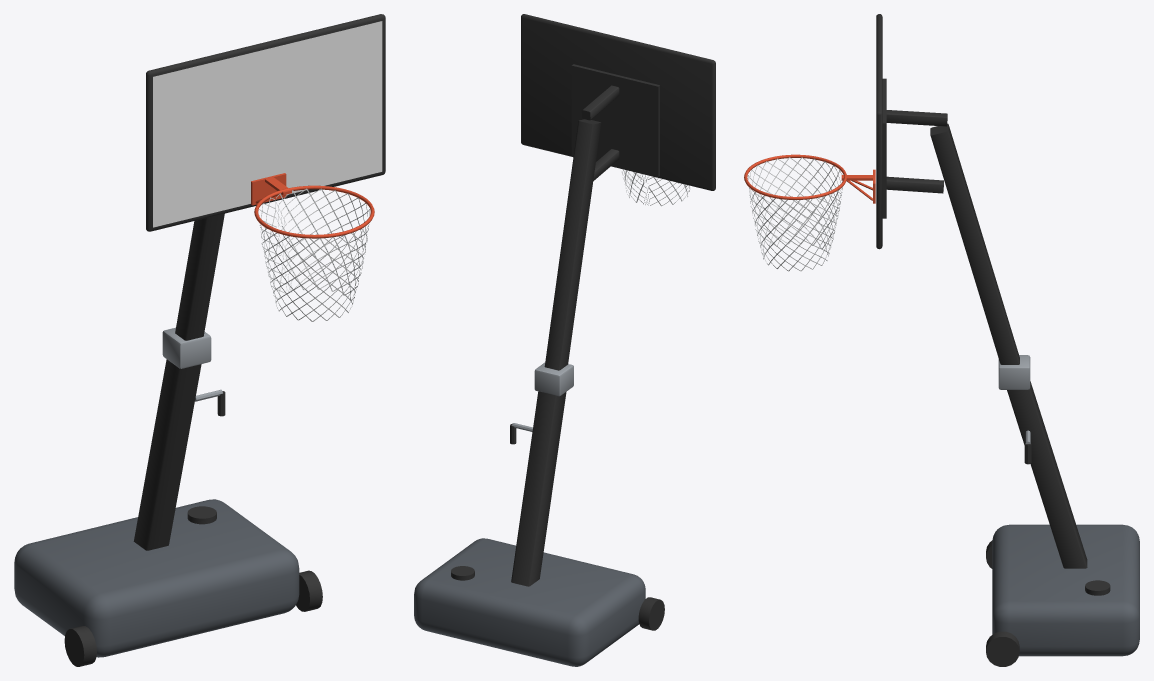
File: vinish-youth-hoop.glb
3 views of the same model, side by side, from view 1: azimuth 30°, elevation 25°; view 2: azimuth 150°, elevation 25°; view 3: azimuth 270°, elevation 25° (orthographic). The views are drawn at different scales.
Visible parts, largest first — view 1: Youth_Hoop; view 2: Youth_Hoop; view 3: Youth_Hoop.
Boxes of the visible parts, box(x1,y1,x2,y2) form: Youth_Hoop: box(14, 14, 385, 666); Youth_Hoop: box(414, 14, 715, 666); Youth_Hoop: box(744, 14, 1139, 666).
Size of the model in its own units: 1.12 by 2.9 by 1.88.
6 materials, 1 textured.
